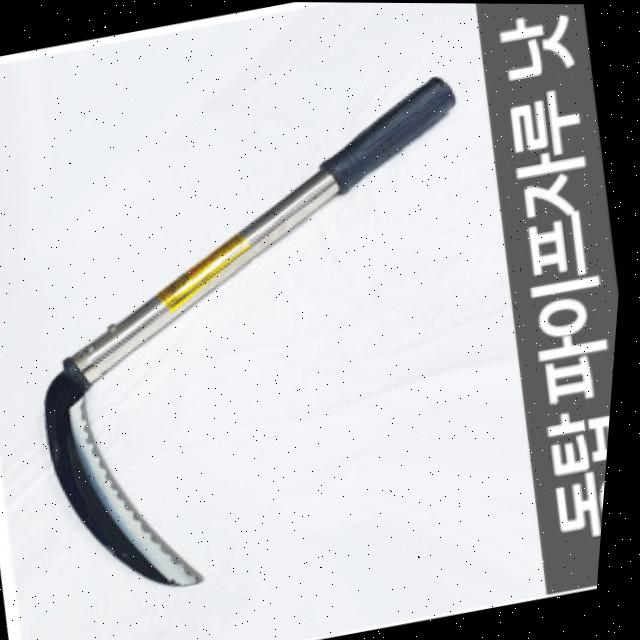sickle: (0, 61, 535, 612)
